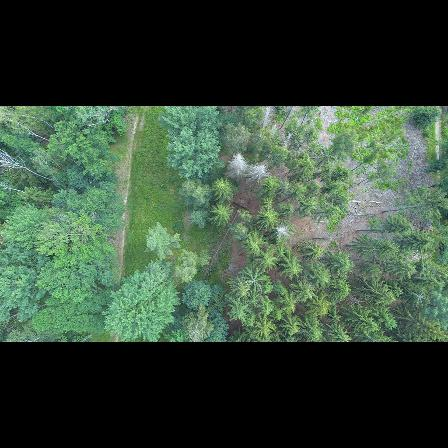Dead: (225, 150, 249, 180), (248, 161, 272, 187)
Sick: (269, 220, 294, 243)
